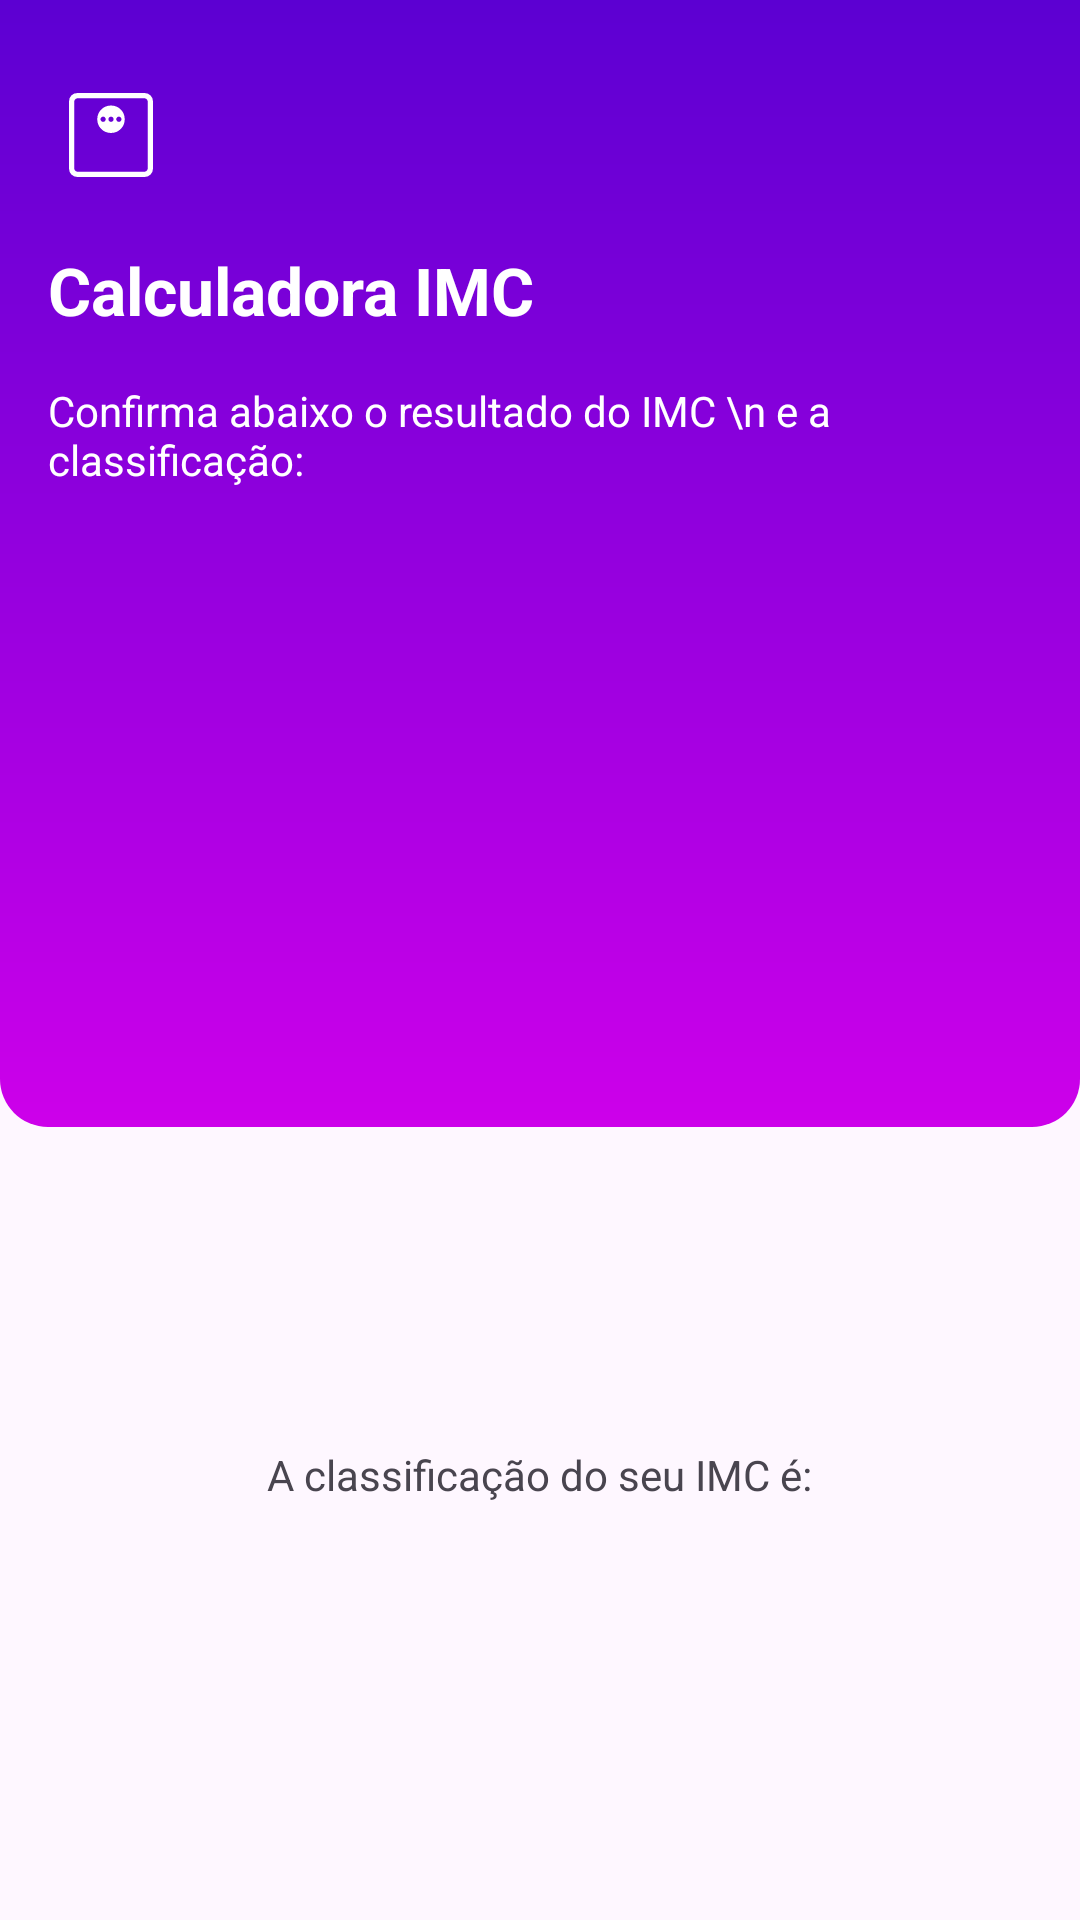

Icon click points for this 1080 x 1920 phone screenshot, format (x,y):
weight: (111,135)
